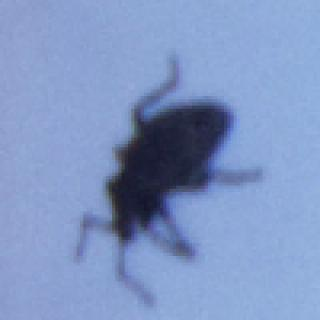bvw: (74, 50, 262, 310)
